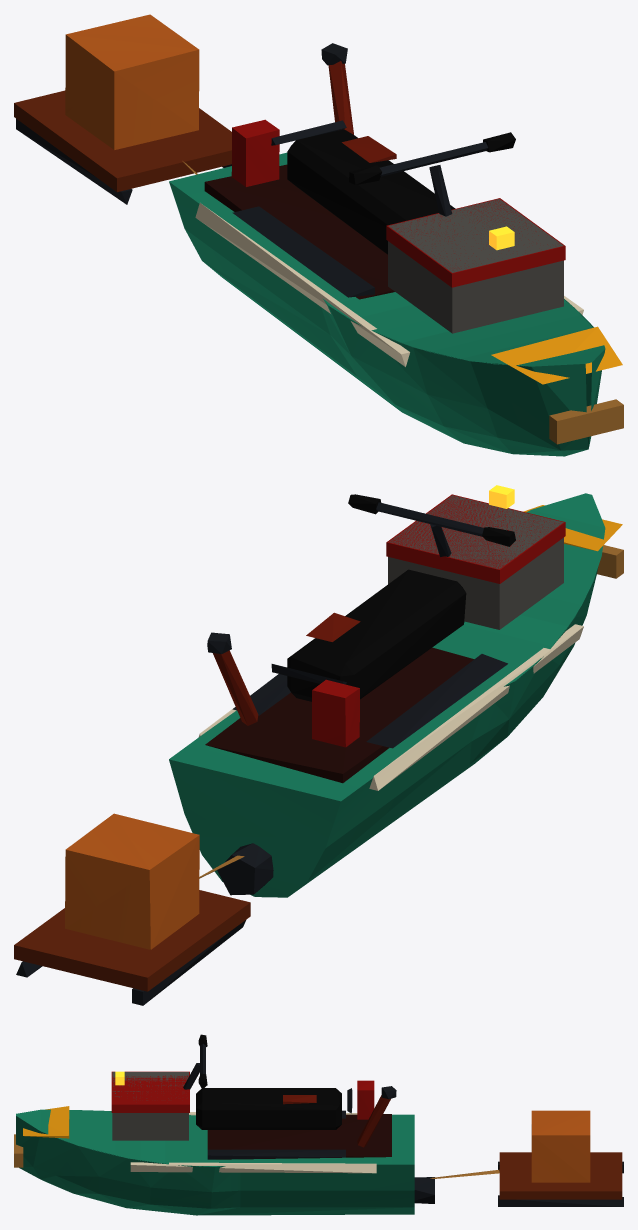
Rendered from tb_waverunner.three-web-toon.lod50.glb.
The picture shows the model from 3 angles, top to bottom: view 1: azimuth 30°, elevation 25°; view 2: azimuth 150°, elevation 25°; view 3: azimuth 270°, elevation 25°; orthographic projection. The views are drawn at different scales.
Parts seen in each view (by area): view 1: tb_waverunner_mesh_lod, waverunner_sled_mesh_lod, waverunner_bars_mesh_lod; view 2: tb_waverunner_mesh_lod, waverunner_sled_mesh_lod, waverunner_bars_mesh_lod; view 3: tb_waverunner_mesh_lod, waverunner_sled_mesh_lod, waverunner_bars_mesh_lod.
Boxes of the visible parts, bbox=[...] form: tb_waverunner_mesh_lod: bbox=[169, 43, 623, 456]; waverunner_sled_mesh_lod: bbox=[14, 14, 231, 204]; waverunner_bars_mesh_lod: bbox=[349, 132, 515, 216]; tb_waverunner_mesh_lod: bbox=[169, 485, 623, 897]; waverunner_sled_mesh_lod: bbox=[14, 813, 250, 1005]; waverunner_bars_mesh_lod: bbox=[348, 494, 515, 556]; tb_waverunner_mesh_lod: bbox=[14, 1071, 434, 1215]; waverunner_sled_mesh_lod: bbox=[430, 1110, 623, 1206]; waverunner_bars_mesh_lod: bbox=[183, 1034, 207, 1089].
Bounding box in the file's own units: 0.84 × 1.09 × 3.97.
